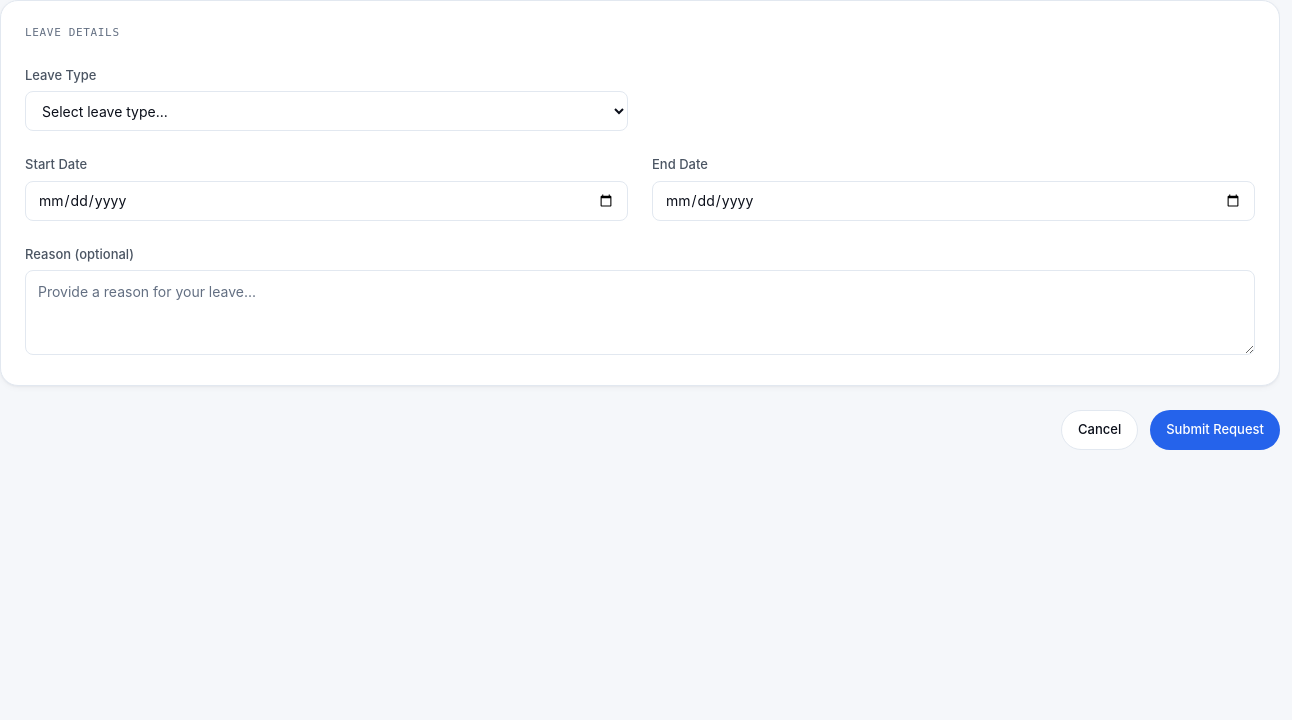
Test: LeaveRequestForm › shows loading state during submission
This screenshot has width=1292, height=720.
Select "Day Off" in the dropdown labelled "Leave Type". click: (326, 111)
box: [25,91,628,131]
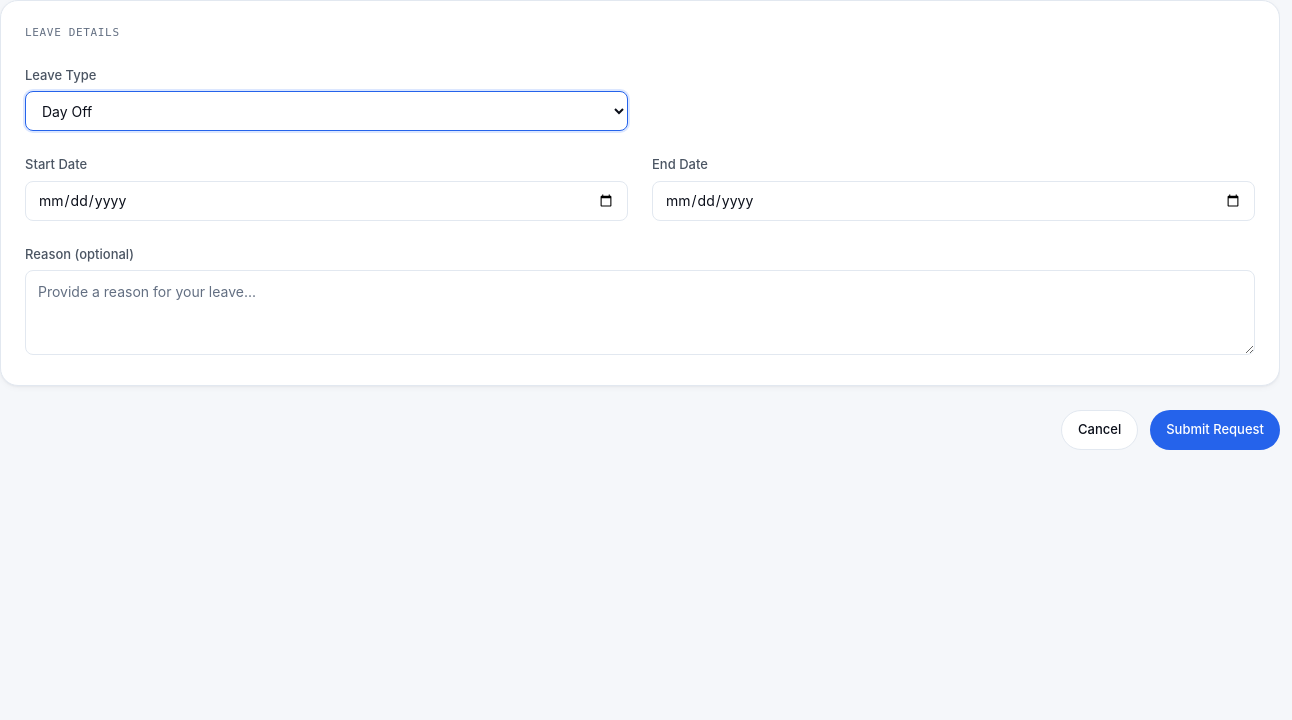
Type "2026-04-06" into the date field labelled "Start Date". click: (326, 200)
box: [25,180,628,220]
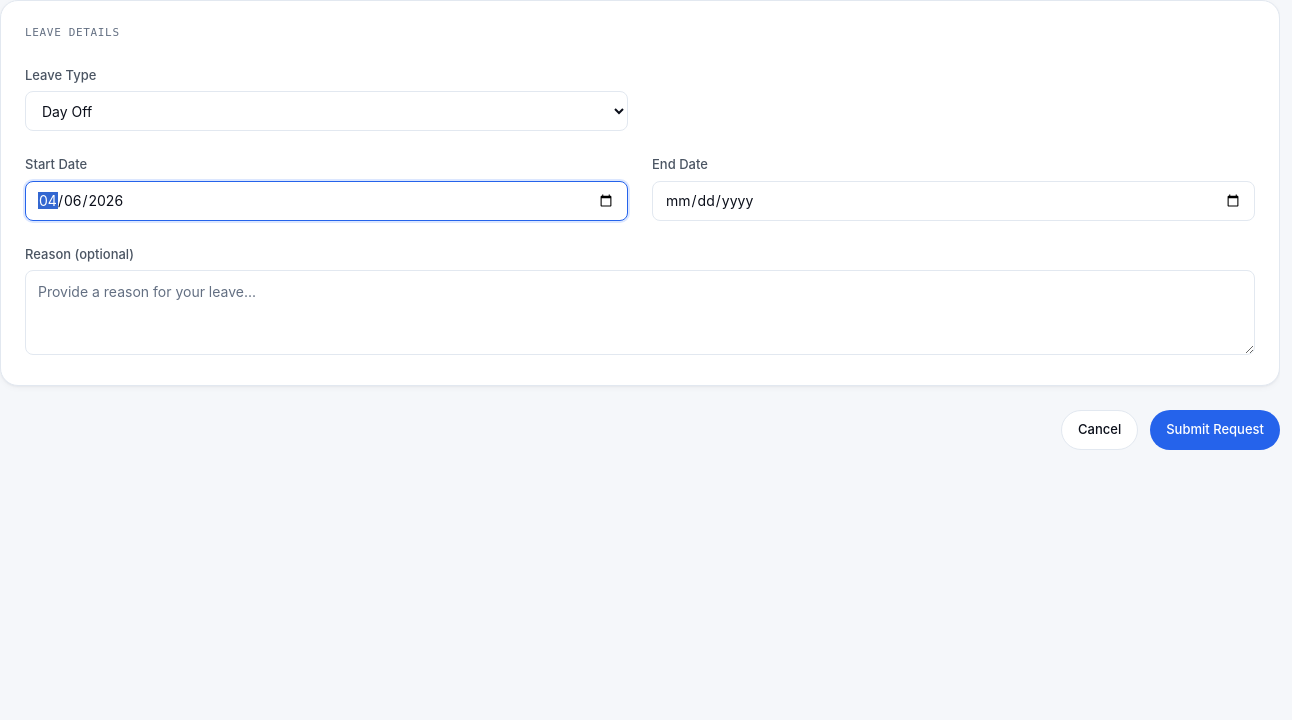
Type "2026-04-06" into the date field labelled "End Date". click: (954, 200)
box: [652,180,1255,220]
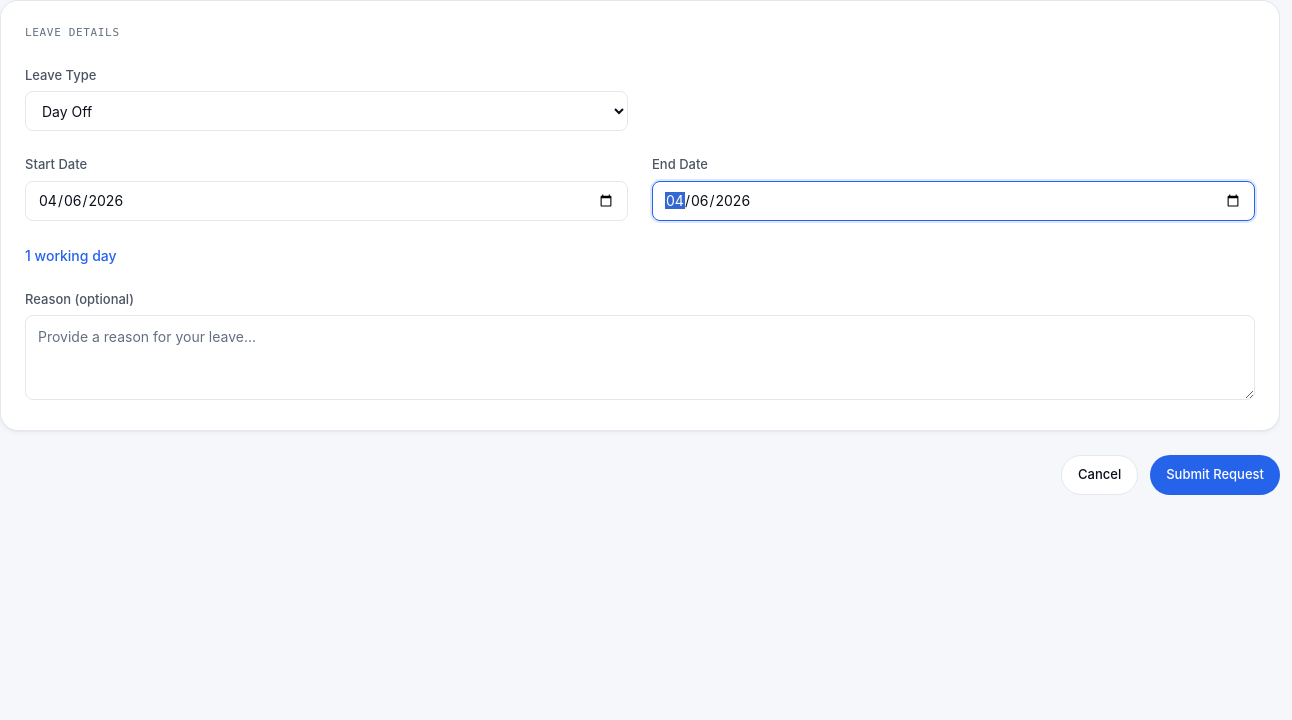
Click the button "Submit Request". click: click(1215, 475)
box: [1150,455,1280,495]
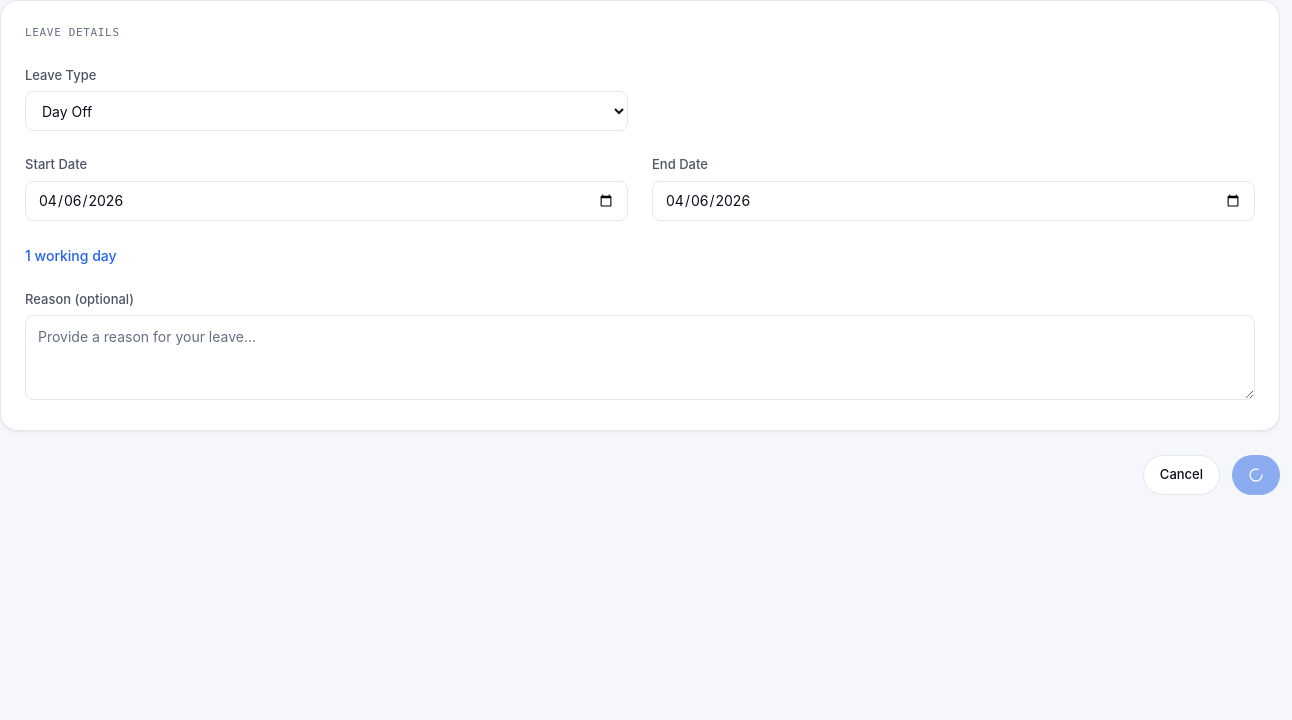
Result: the button named "submit request" is disabled at [1232,455,1280,495]
Result: the button "Submit Request" is gone
